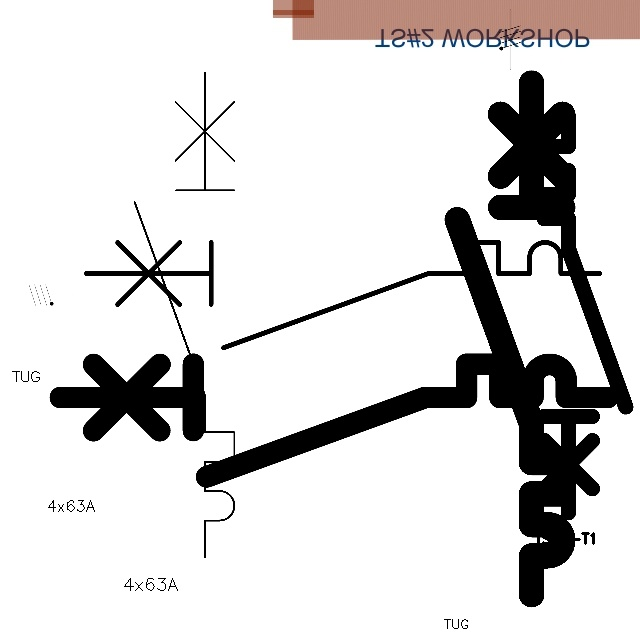interruptor_termomagnetico: (46, 350, 622, 491), (73, 229, 613, 361), (444, 69, 576, 607), (122, 60, 247, 570), (534, 106, 636, 523)
